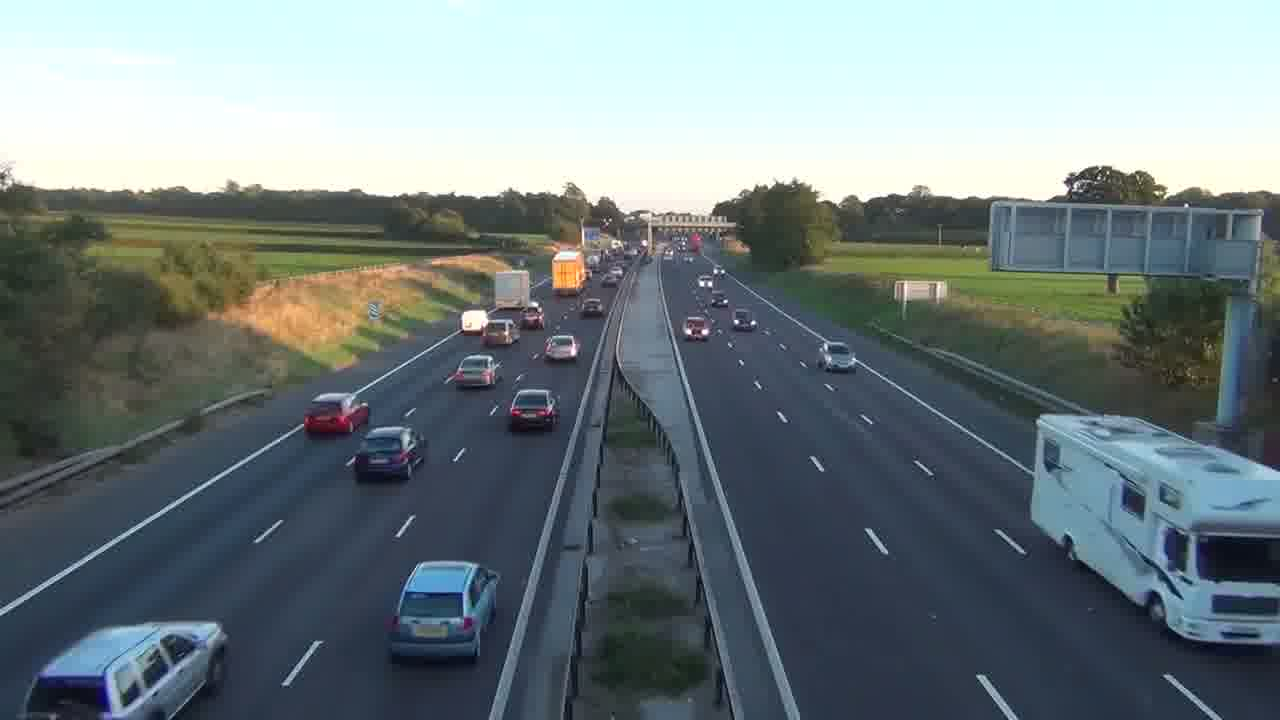car: (21, 620, 229, 718), (385, 560, 501, 664), (347, 425, 426, 481), (303, 391, 370, 438), (508, 388, 561, 432), (448, 353, 502, 390), (819, 340, 856, 373), (543, 333, 580, 362)
truck: (1028, 411, 1279, 647), (21, 620, 229, 718), (460, 307, 489, 337)
